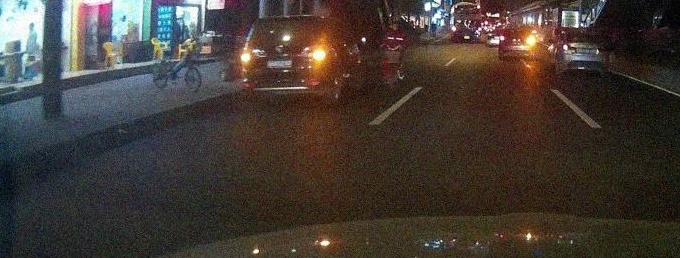L_light: (242, 53, 252, 63), (562, 44, 576, 51), (500, 36, 507, 43)
R_light: (313, 49, 326, 61), (596, 44, 609, 51), (527, 36, 535, 45)
T_light: (281, 17, 295, 22), (579, 33, 587, 36), (514, 30, 521, 32)
night-left: (562, 31, 610, 75)
night-no: (242, 14, 327, 105)
night-right: (499, 28, 536, 60)
